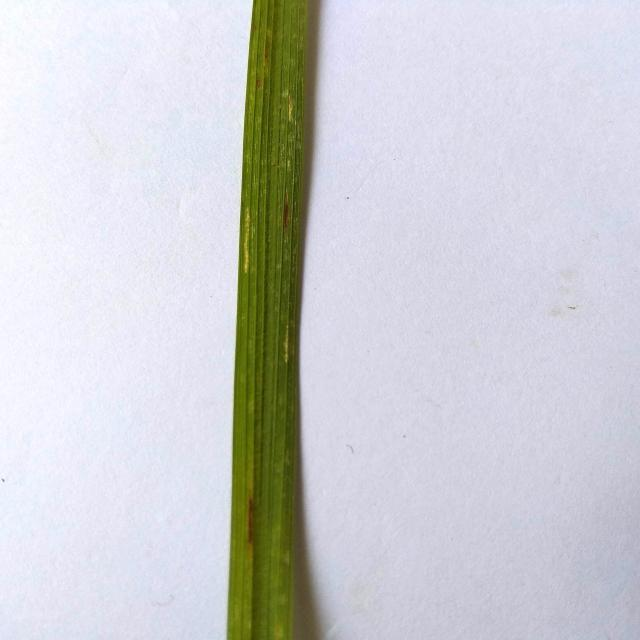brownspots: (240, 488, 260, 552), (277, 191, 291, 240)
